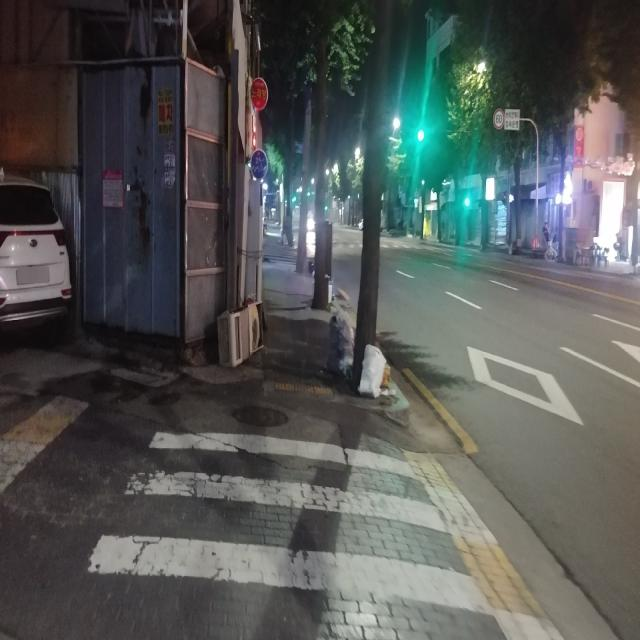횡단보도: (86, 424, 498, 616)
